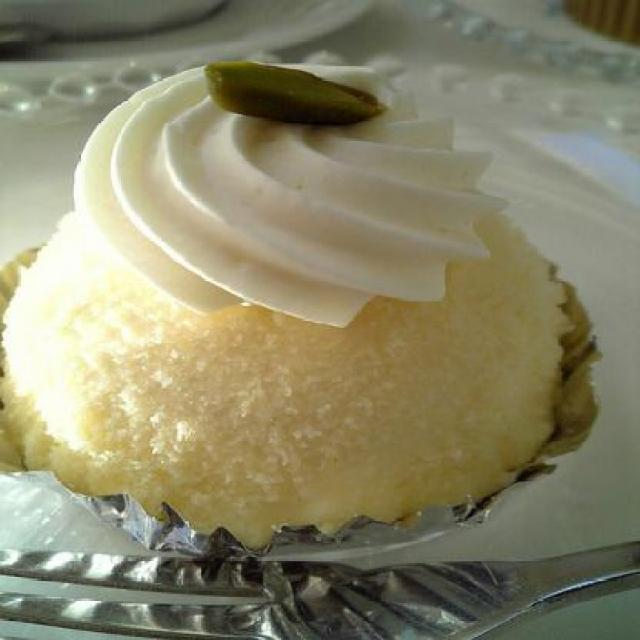Rare cheese cake: (10, 74, 618, 562)
